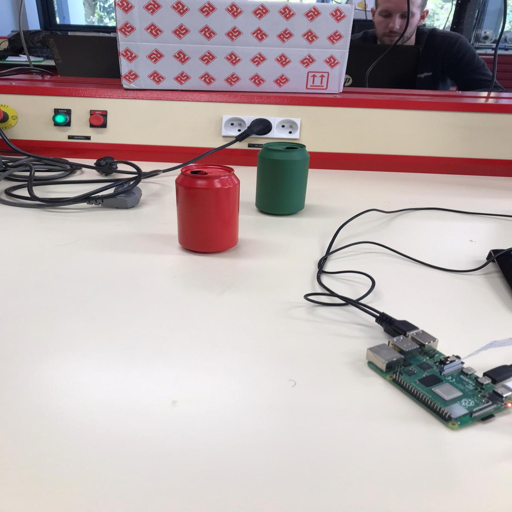Green_Can: (254, 140, 310, 216)
Red_Can: (173, 163, 240, 253)
